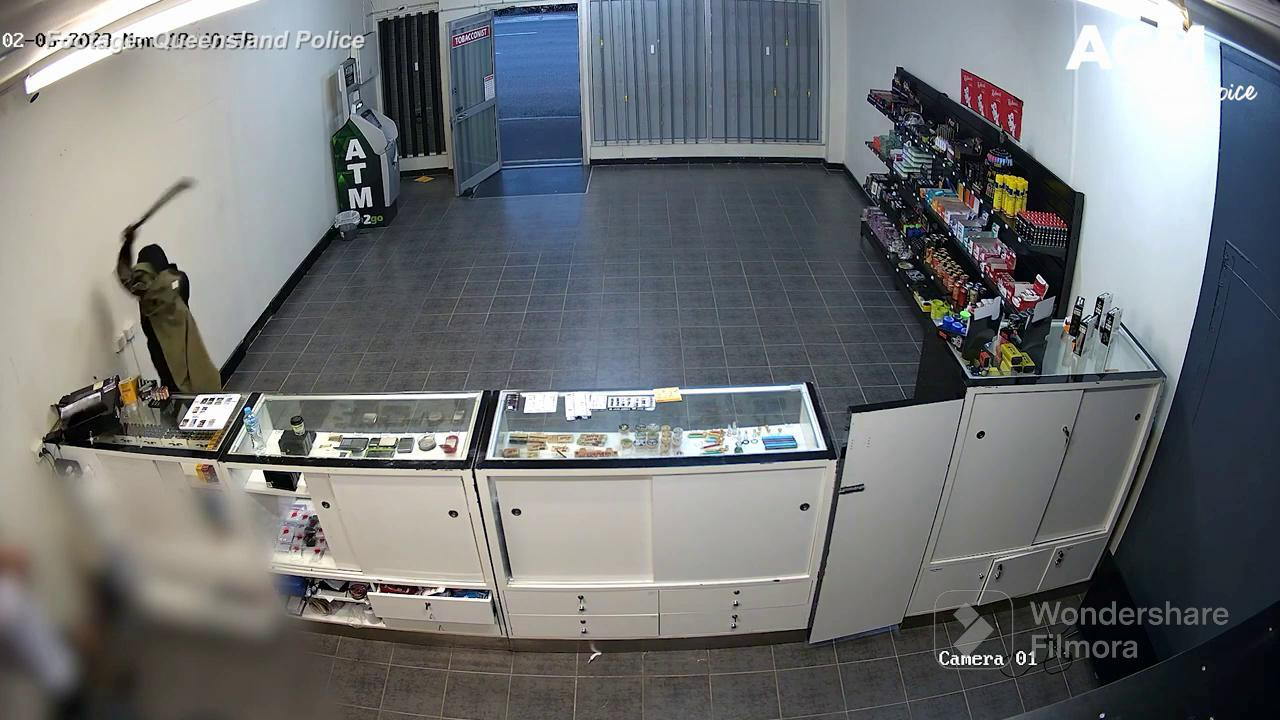melee: (127, 176, 195, 240)
